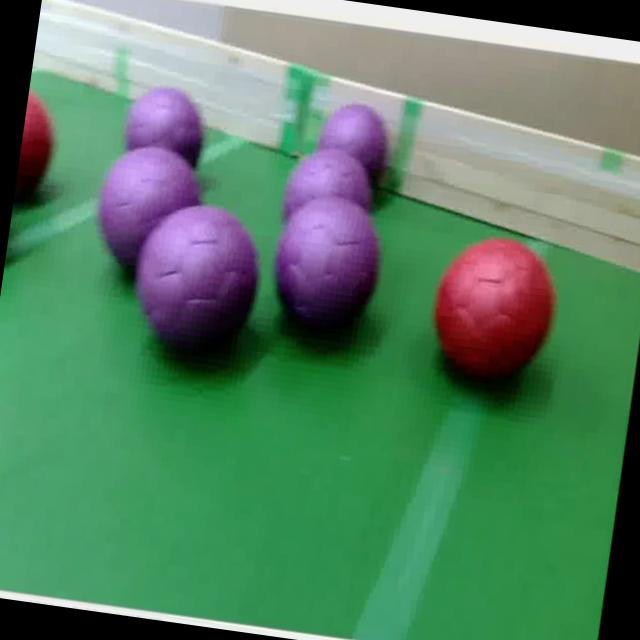purple_ball: (128, 202, 270, 365), (262, 194, 386, 350), (88, 148, 204, 285), (310, 101, 394, 206), (282, 147, 379, 230), (121, 80, 213, 164)
red_ball: (420, 227, 568, 401), (13, 94, 62, 205)
